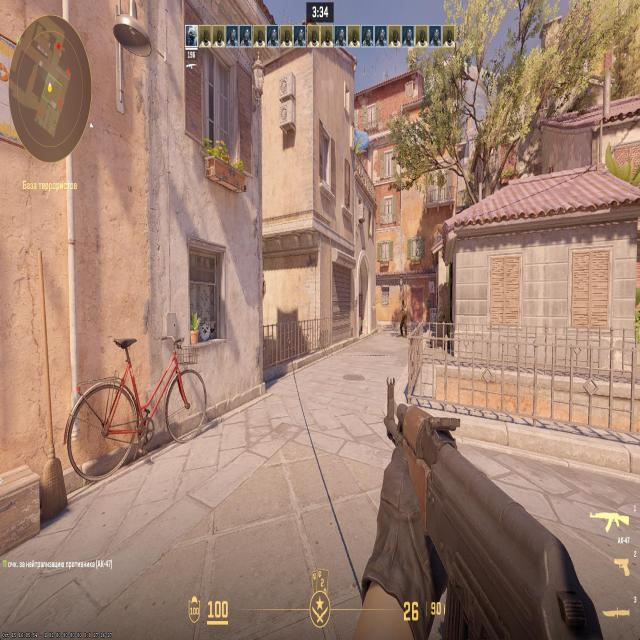T: (402, 301, 407, 329)
T_heat: (402, 301, 405, 308)
